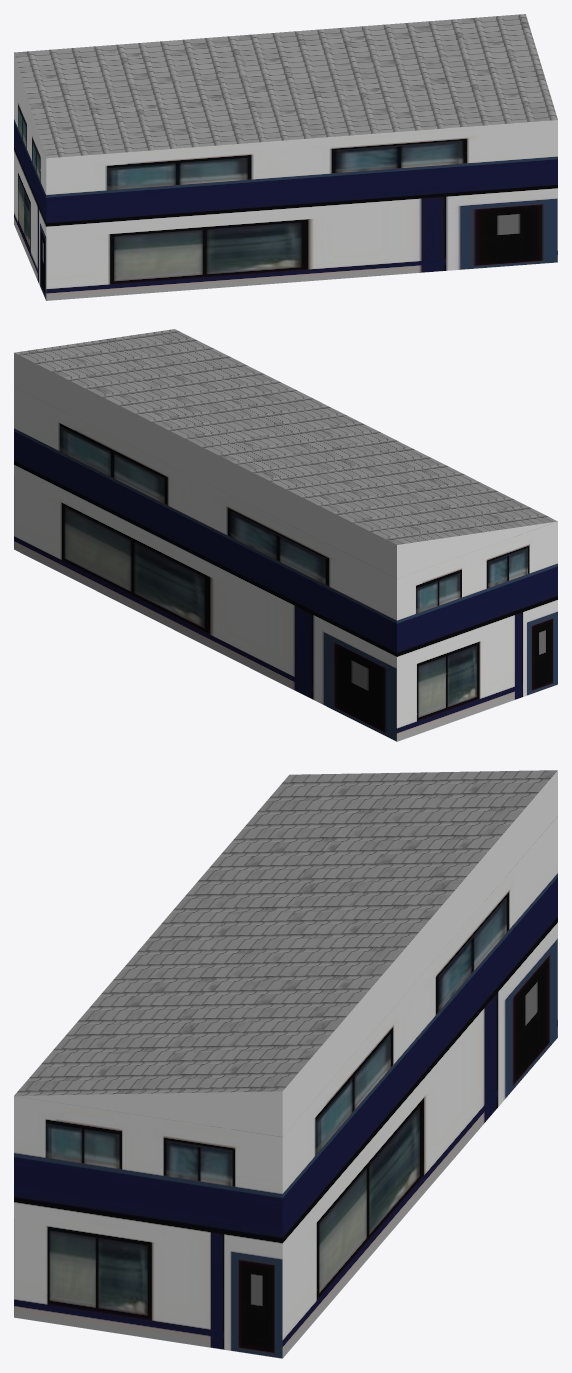
3 renders of one model, top to bottom at view 1: azimuth 30°, elevation 25°; view 2: azimuth 150°, elevation 25°; view 3: azimuth 270°, elevation 25°, orthographic. The views are drawn at different scales.
Visible parts, largest first — view 1: CityEngineMaterial_2_m, CityEngineMaterial_4_m, CityEngineMaterial_3_m; view 2: CityEngineMaterial_2_m, CityEngineMaterial_4_m, CityEngineMaterial_3_m; view 3: CityEngineMaterial_2_m, CityEngineMaterial_4_m, CityEngineMaterial_3_m.
Part boxes in pixels (x1,y1,x2,y2): CityEngineMaterial_2_m: [14, 82, 557, 300]; CityEngineMaterial_4_m: [14, 14, 557, 158]; CityEngineMaterial_3_m: [14, 53, 45, 156]; CityEngineMaterial_2_m: [14, 386, 557, 741]; CityEngineMaterial_4_m: [14, 329, 557, 544]; CityEngineMaterial_3_m: [14, 353, 556, 578]; CityEngineMaterial_2_m: [14, 816, 557, 1358]; CityEngineMaterial_4_m: [14, 770, 557, 1095]; CityEngineMaterial_3_m: [16, 770, 557, 1136].
Size of the model in its own units: 24.31 by 8.37 by 15.43.
